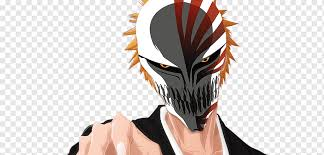Ichigo: (134, 1, 229, 134)
